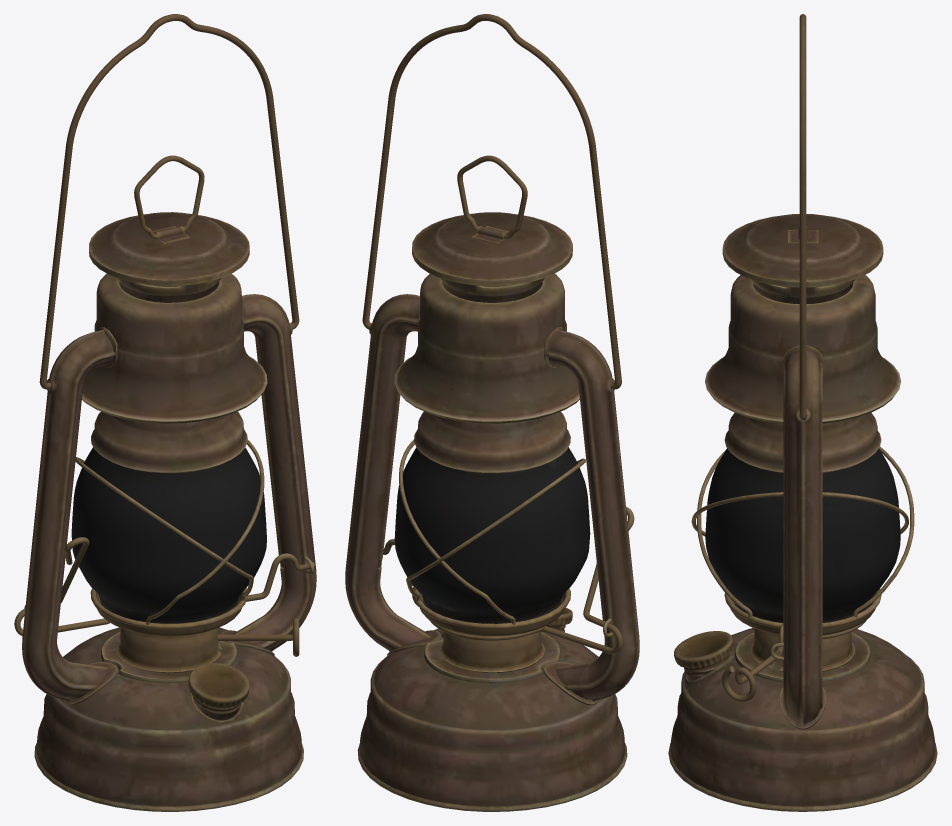
The model's file is Lantern_01.glb.
3 renders of one model, left to right at view 1: azimuth 30°, elevation 25°; view 2: azimuth 150°, elevation 25°; view 3: azimuth 270°, elevation 25°, orthographic.
Parts seen in each view (by area): view 1: Lantern_01, Lantern_01_glass; view 2: Lantern_01, Lantern_01_glass; view 3: Lantern_01, Lantern_01_glass.
Part boxes in pixels (x1=…): Lantern_01: x1=14, y1=14, x2=316, y2=811; Lantern_01_glass: x1=71, y1=447, x2=266, y2=623; Lantern_01: x1=345, y1=14, x2=639, y2=811; Lantern_01_glass: x1=394, y1=447, x2=590, y2=623; Lantern_01: x1=668, y1=14, x2=937, y2=811; Lantern_01_glass: x1=705, y1=448, x2=900, y2=622.
Bounding box in the file's own units: 0.1221 × 0.2942 × 0.0972.
Materials: 2 (2 with a texture image).
